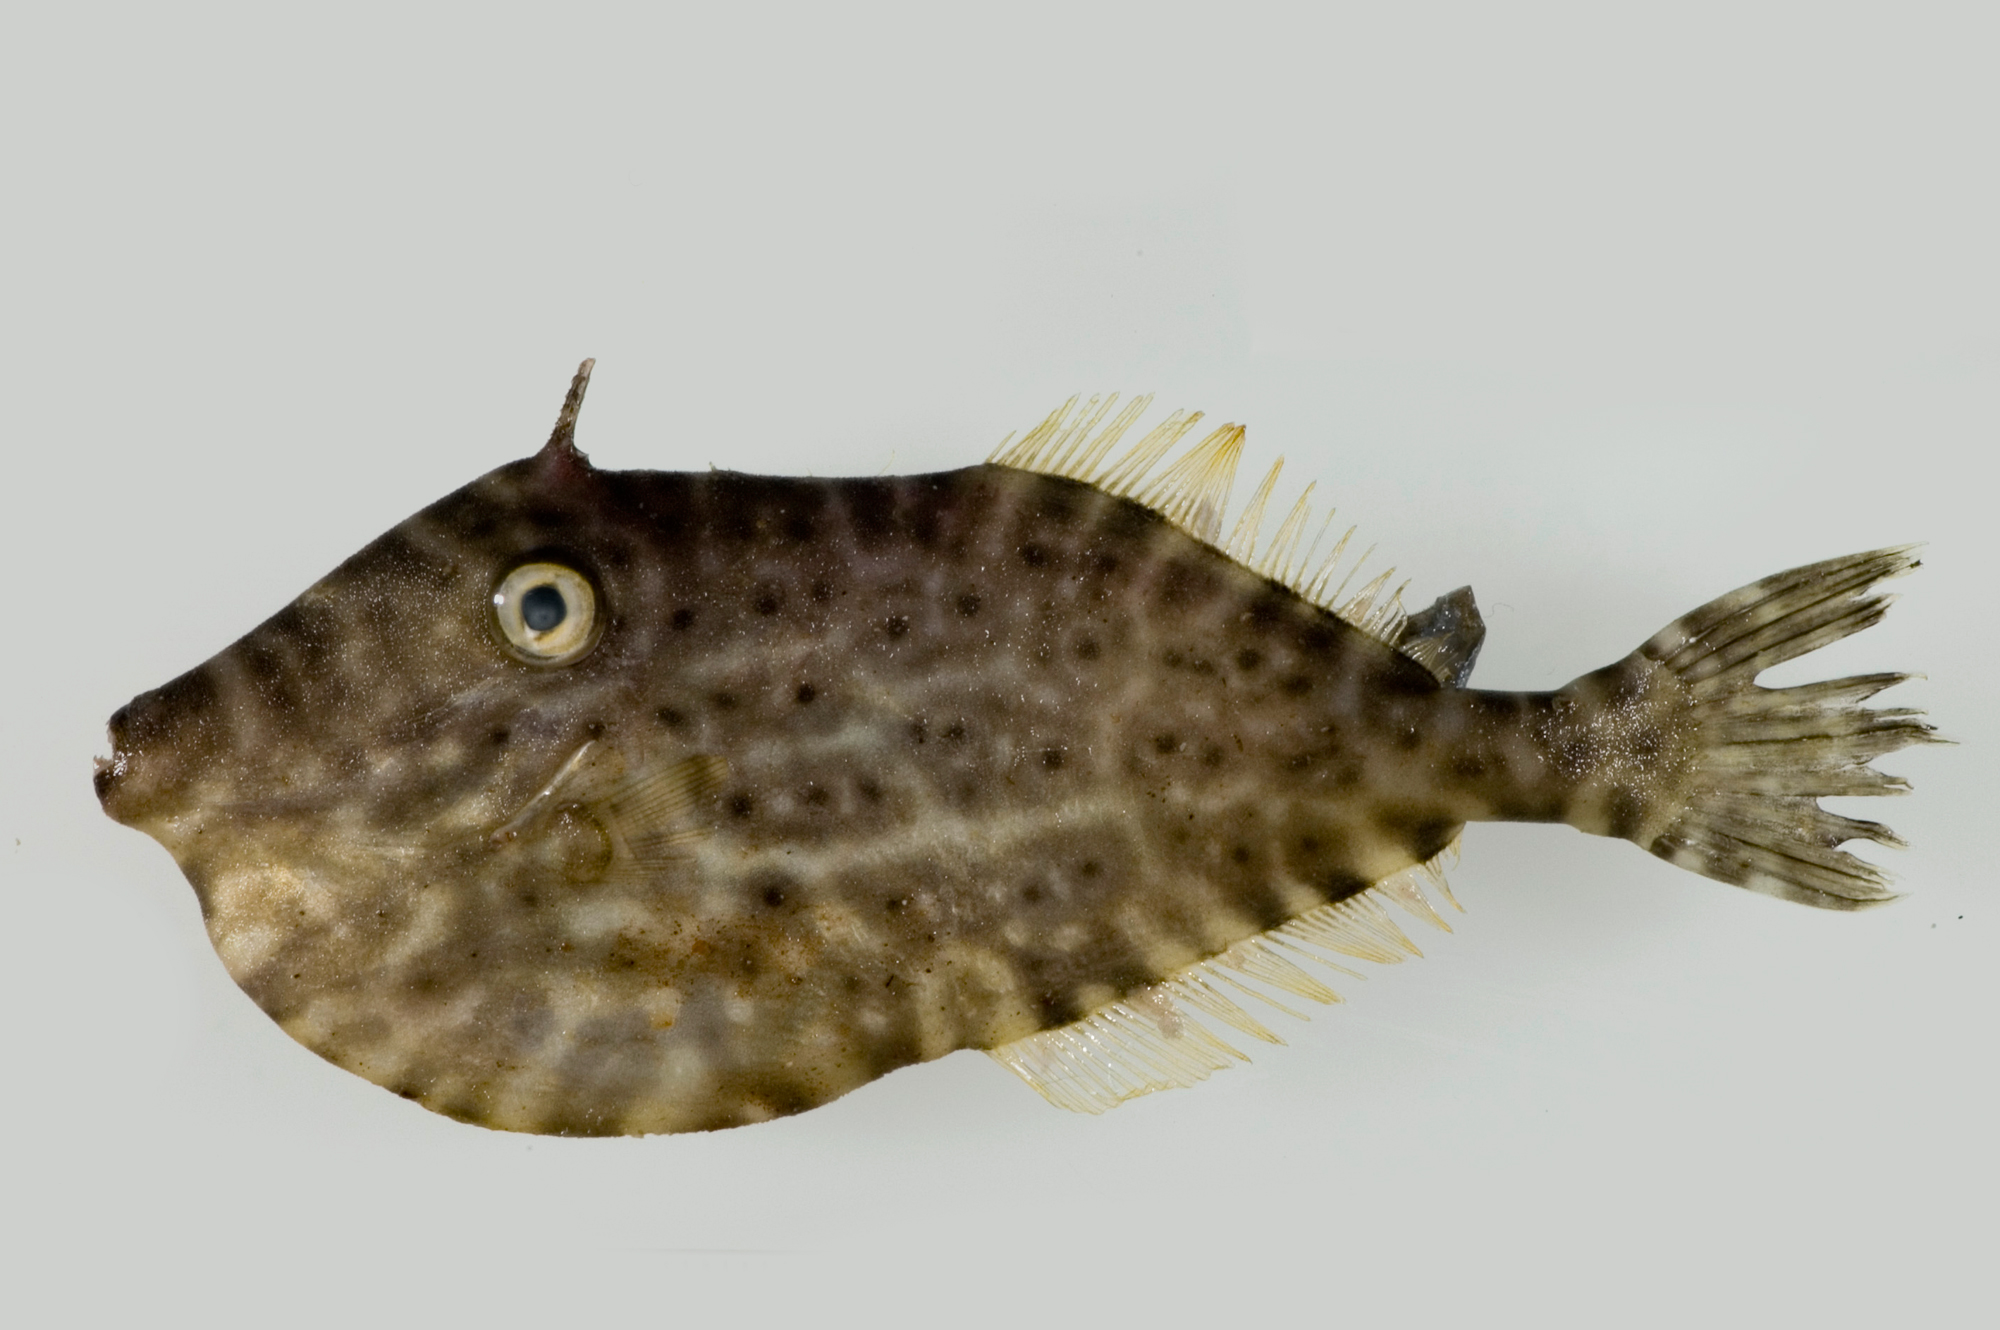Aluterus_scriptus: (79, 352, 1963, 1162)
